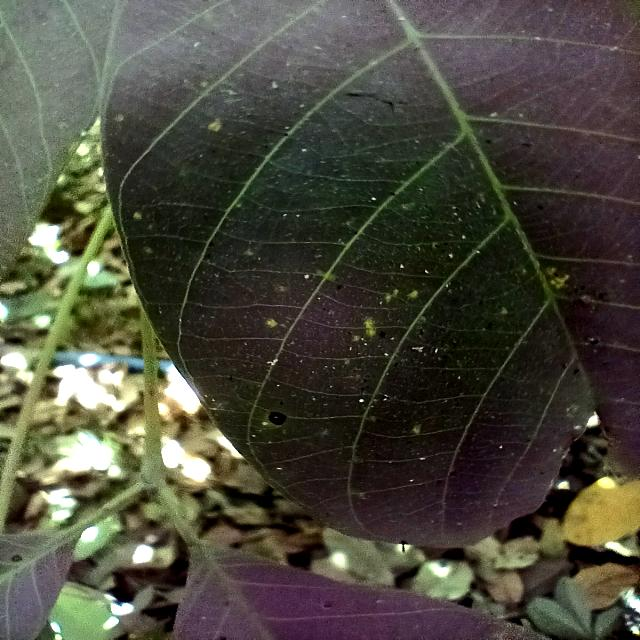Colletotrichum: (268, 412, 286, 426)
